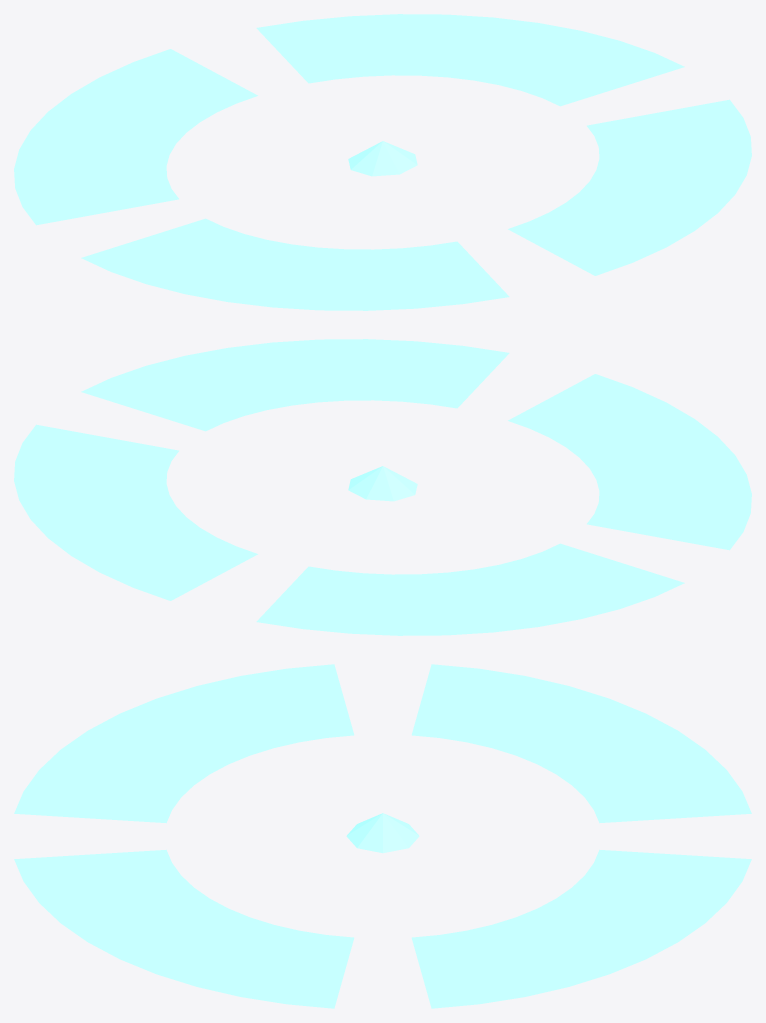
The model's file is reticle1.gltf.
The picture shows the model from 3 angles, top to bottom: view 1: azimuth 30°, elevation 25°; view 2: azimuth 150°, elevation 25°; view 3: azimuth 270°, elevation 25°; orthographic projection. The views are drawn at different scales.
Visible parts, largest first — view 1: Torus; view 2: Torus; view 3: Torus.
Part boxes in pixels (x1,y1,x2,y2): Torus: (14,14,751,310); Torus: (14,339,751,635); Torus: (14,664,751,1008).
Bounding box in the file's own units: 0.4453 × 0.0141 × 0.403.
